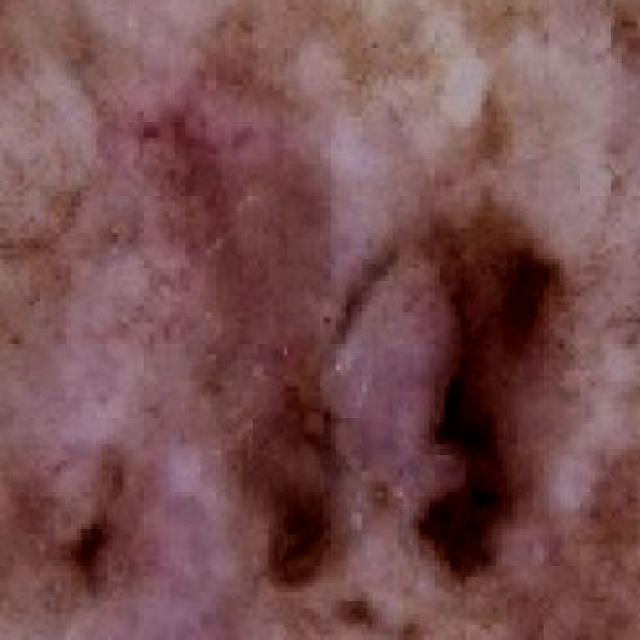AKIEC: (131, 155, 640, 640)
